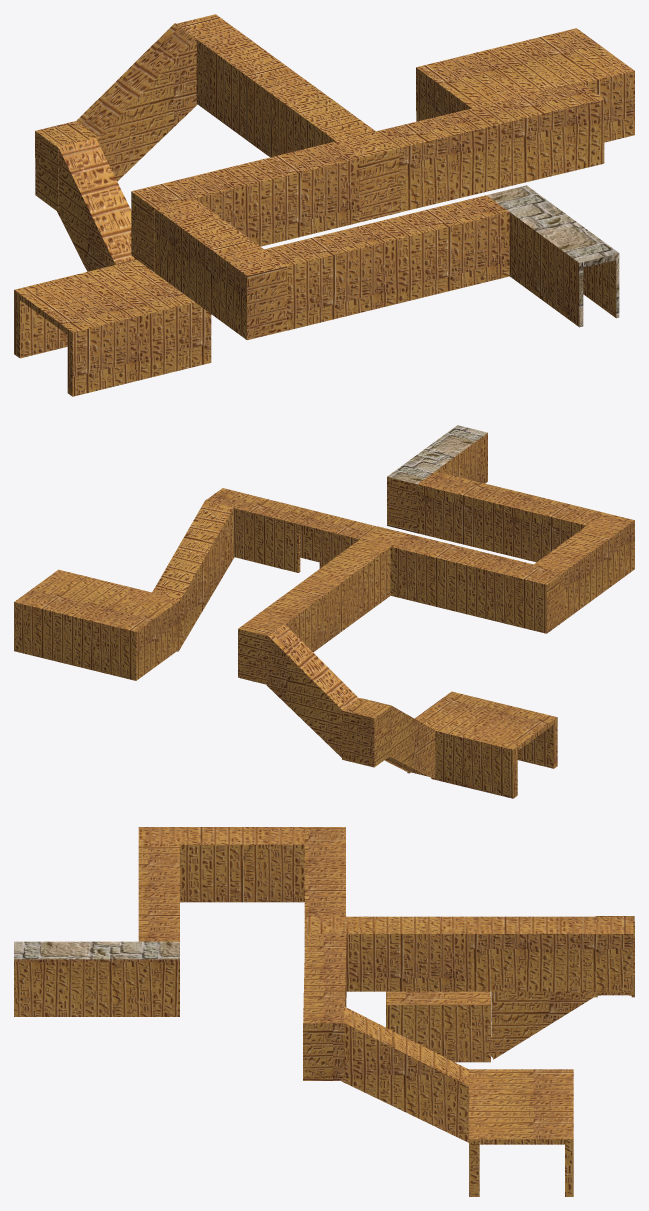
File: Tomb_1.fbx
3 views of the same model, one above another, from view 1: azimuth 30°, elevation 25°; view 2: azimuth 150°, elevation 25°; view 3: azimuth 270°, elevation 25° (orthographic). The views are drawn at different scales.
Visible parts, largest first — view 1: pCube196; view 2: pCube196; view 3: pCube196.
Boxes of the visible parts, x1,y1,x2,y2 form: pCube196: [14, 14, 634, 396]; pCube196: [14, 425, 634, 798]; pCube196: [14, 827, 634, 1196].
Bounding box in the file's own units: 21.82 × 7.31 × 21.51.
